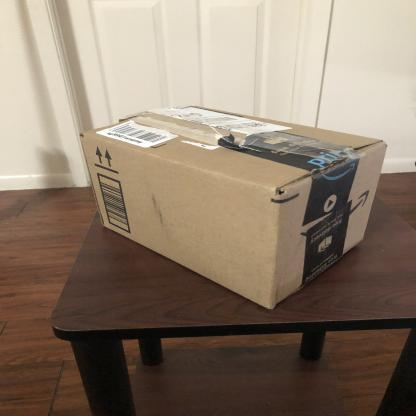package: (75, 102, 392, 317)
